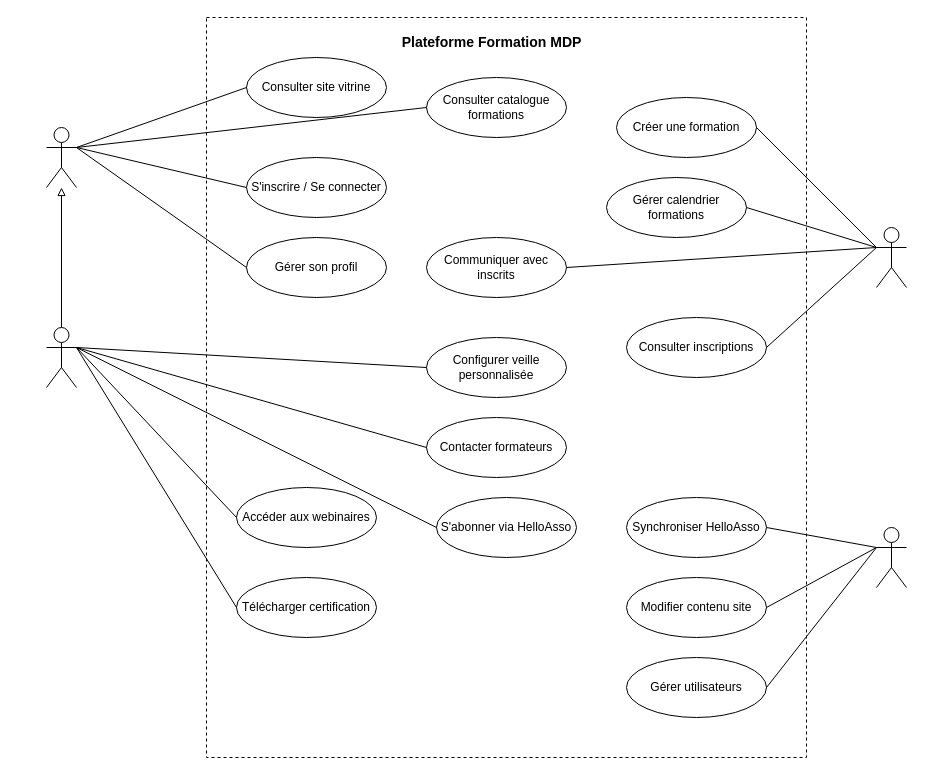
The diagram is 947 pixels wide and 775 high, and some of its shapes have lost their labels. The shapes that lost their labels are listed below. From the top down, each one's centre as x and y in pixels, then its label:
pixel 61 157: Adhérent
pixel 891 257: Formateur
pixel 61 357: Adhérent Payant
pixel 891 557: Administrateur
